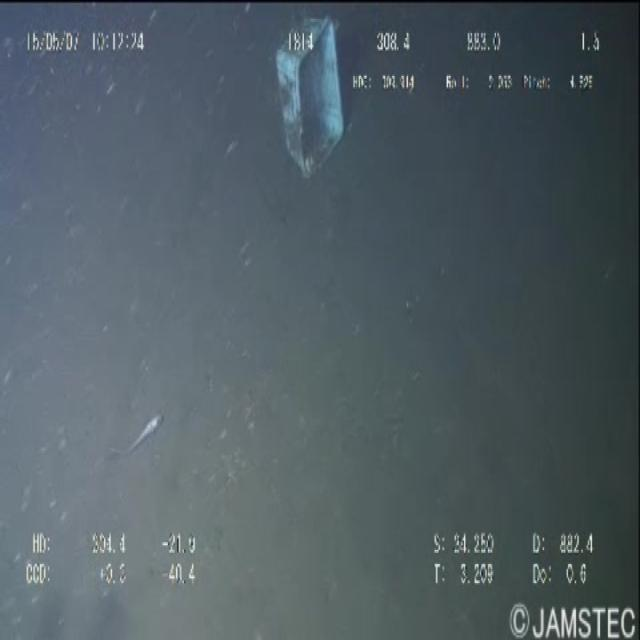Cutlery: (268, 16, 352, 181)
Natual-Debris: (124, 407, 170, 474)
